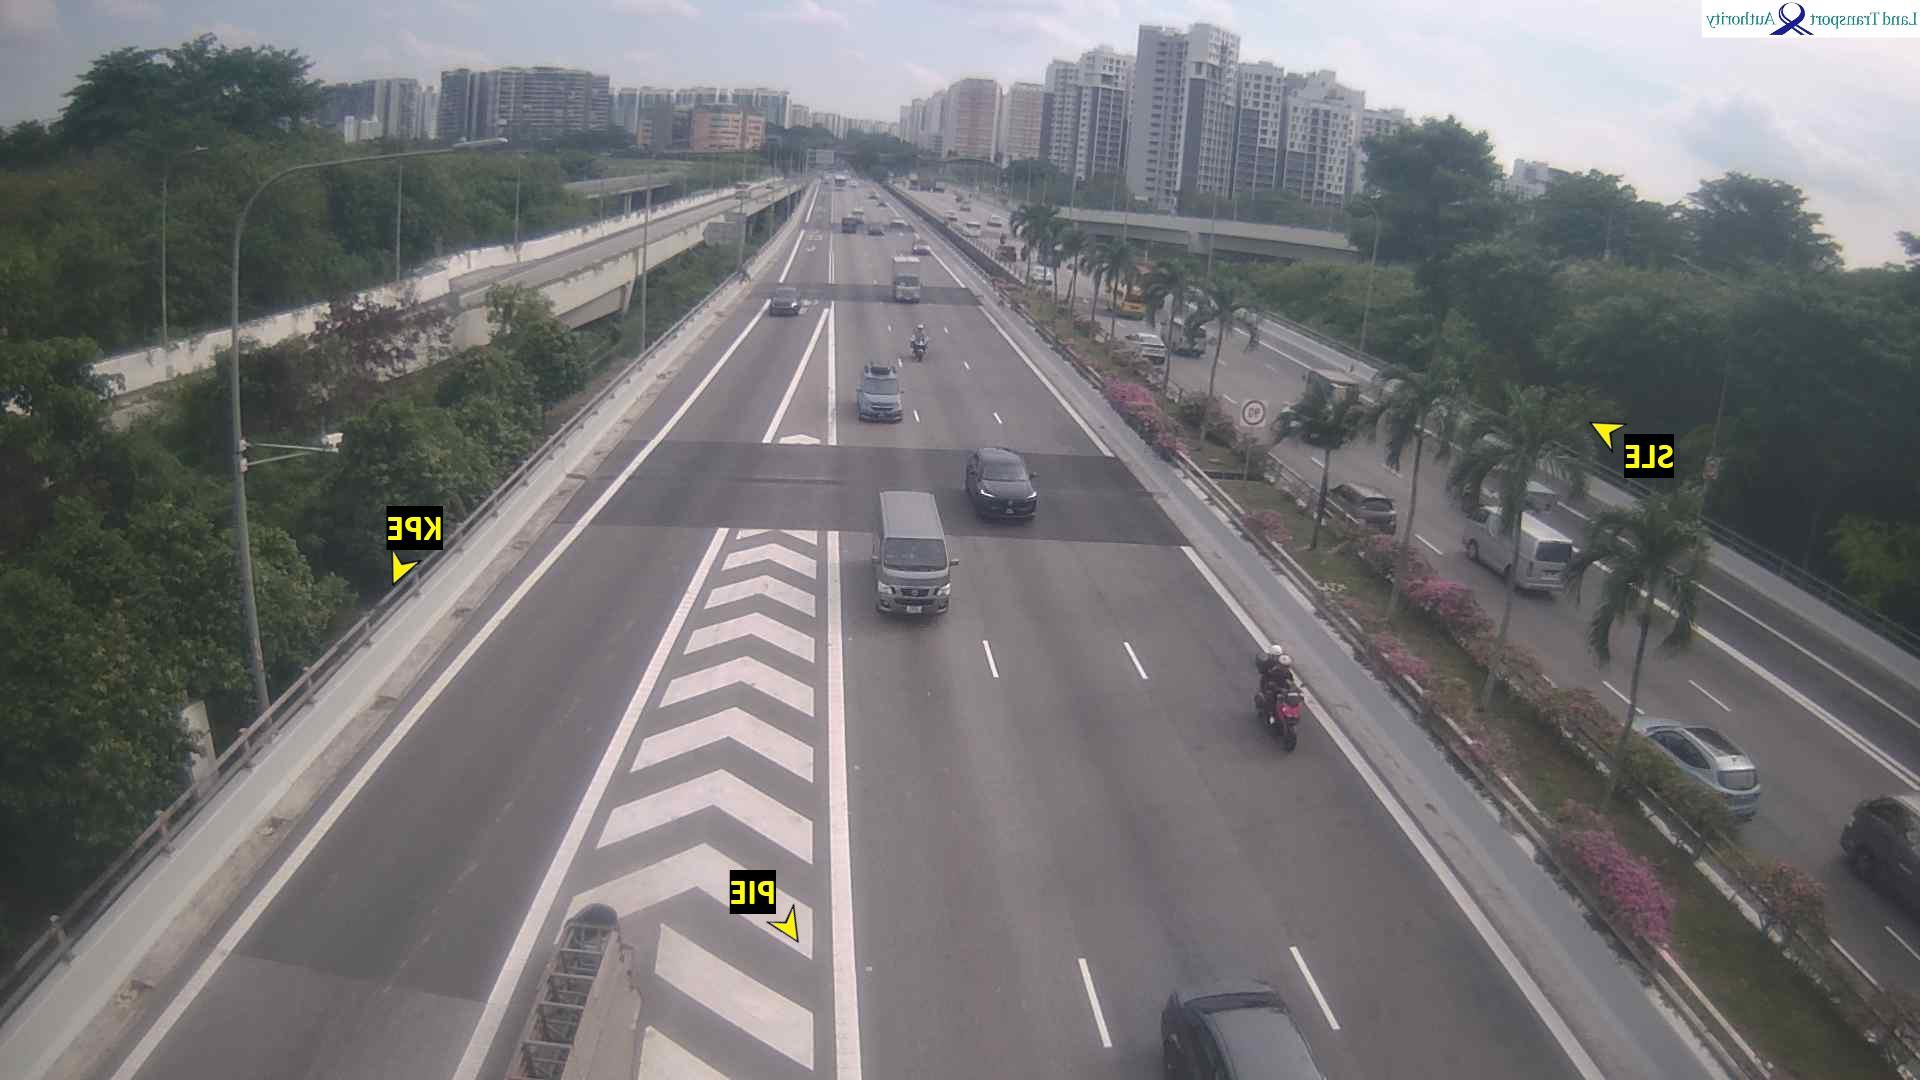cars: (1160, 981, 1328, 1077), (1633, 717, 1764, 822), (1462, 502, 1584, 597), (874, 488, 957, 618), (1841, 793, 1920, 909), (965, 444, 1039, 520), (1327, 480, 1399, 534), (856, 357, 905, 422), (1126, 330, 1168, 363), (770, 285, 804, 315), (1176, 338, 1207, 357), (1029, 262, 1054, 284), (963, 220, 984, 237), (998, 243, 1019, 260), (913, 240, 932, 255), (866, 222, 886, 235), (891, 218, 913, 229), (835, 171, 851, 186), (843, 218, 858, 232), (944, 211, 959, 225), (988, 212, 1004, 225), (851, 206, 866, 218), (868, 189, 881, 202), (932, 179, 945, 191)
motorcycle: (1254, 676, 1308, 752), (910, 322, 931, 360)
trucks: (894, 258, 920, 302)
